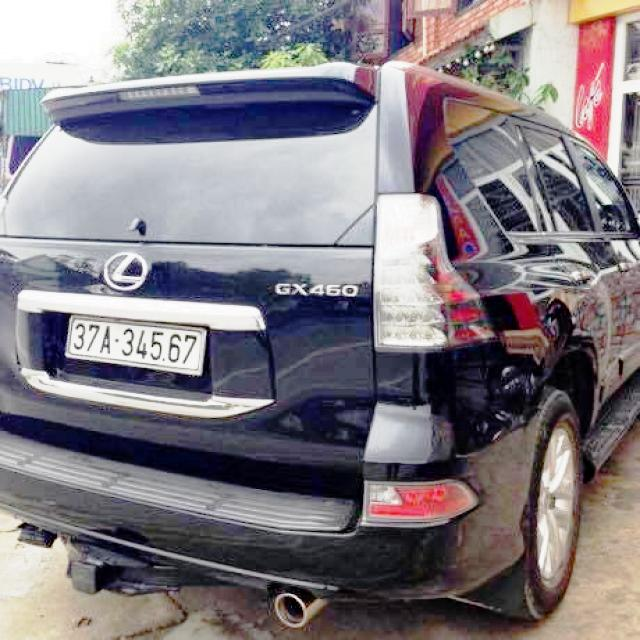license_plate: (70, 315, 202, 372)
